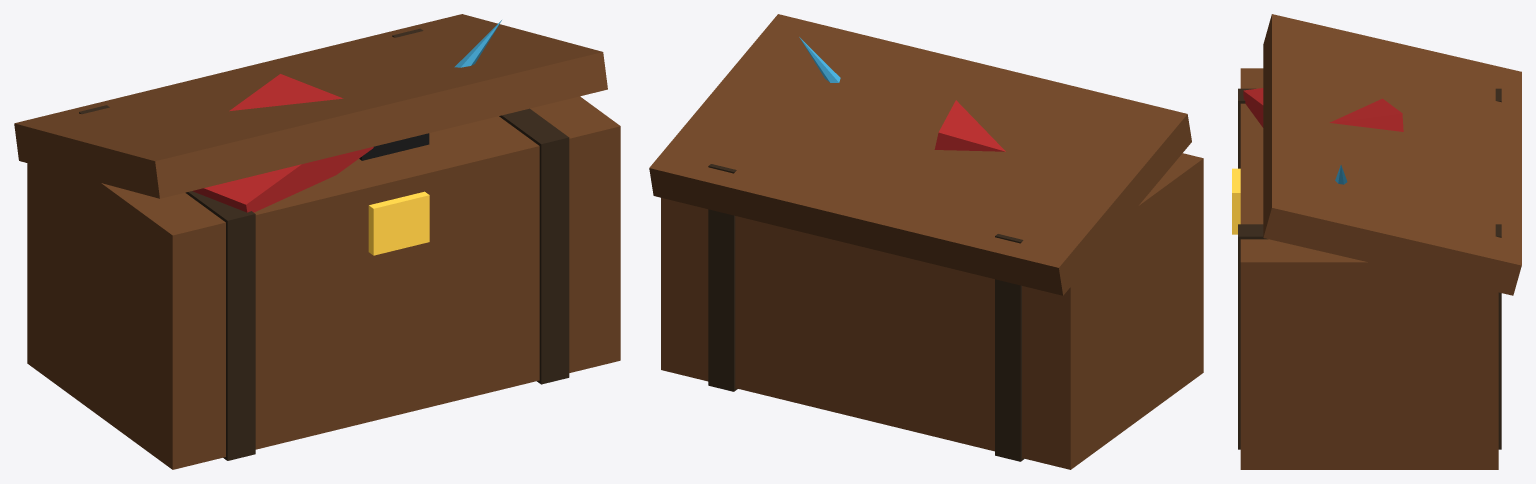
File: costume_trunk.glb
3 renders of one model, left to right at view 1: azimuth 30°, elevation 25°; view 2: azimuth 150°, elevation 25°; view 3: azimuth 270°, elevation 25°, orthographic. The views are drawn at different scales.
Visible parts, largest first — view 1: trunk_trunk_wood, lid_trunk_wood, trunk_trunk_band, costumes_costume_red, trunk_gold, costumes_mustache; view 2: trunk_trunk_wood, lid_trunk_wood, trunk_trunk_band, costumes_costume_red; view 3: trunk_trunk_wood, lid_trunk_wood, trunk_trunk_band, costumes_costume_red, trunk_gold.
Boxes of the visible parts, <box> form: trunk_trunk_wood: <box>27,96,620,469</box>; lid_trunk_wood: <box>14,14,607,198</box>; trunk_trunk_band: <box>79,28,569,460</box>; costumes_costume_red: <box>192,74,373,212</box>; trunk_gold: <box>368,191,429,255</box>; costumes_mustache: <box>359,133,429,160</box>; trunk_trunk_wood: <box>661,153,1203,469</box>; lid_trunk_wood: <box>649,14,1191,295</box>; trunk_trunk_band: <box>708,164,1024,461</box>; costumes_costume_red: <box>934,100,1005,151</box>; trunk_trunk_wood: <box>1240,68,1498,469</box>; lid_trunk_wood: <box>1263,14,1521,295</box>; trunk_trunk_band: <box>1238,88,1501,449</box>; costumes_costume_red: <box>1243,88,1403,131</box>; trunk_gold: <box>1232,168,1240,234</box>.
Size of the model in its own units: 0.8 by 0.5421 by 0.5054.
